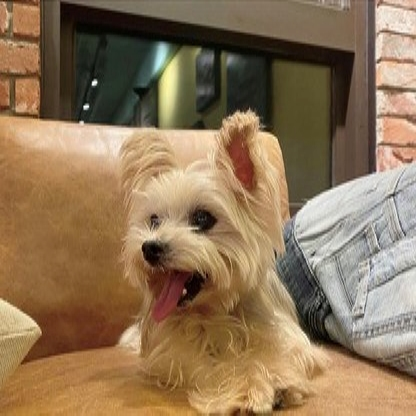yorkshire: (117, 108, 329, 415)
